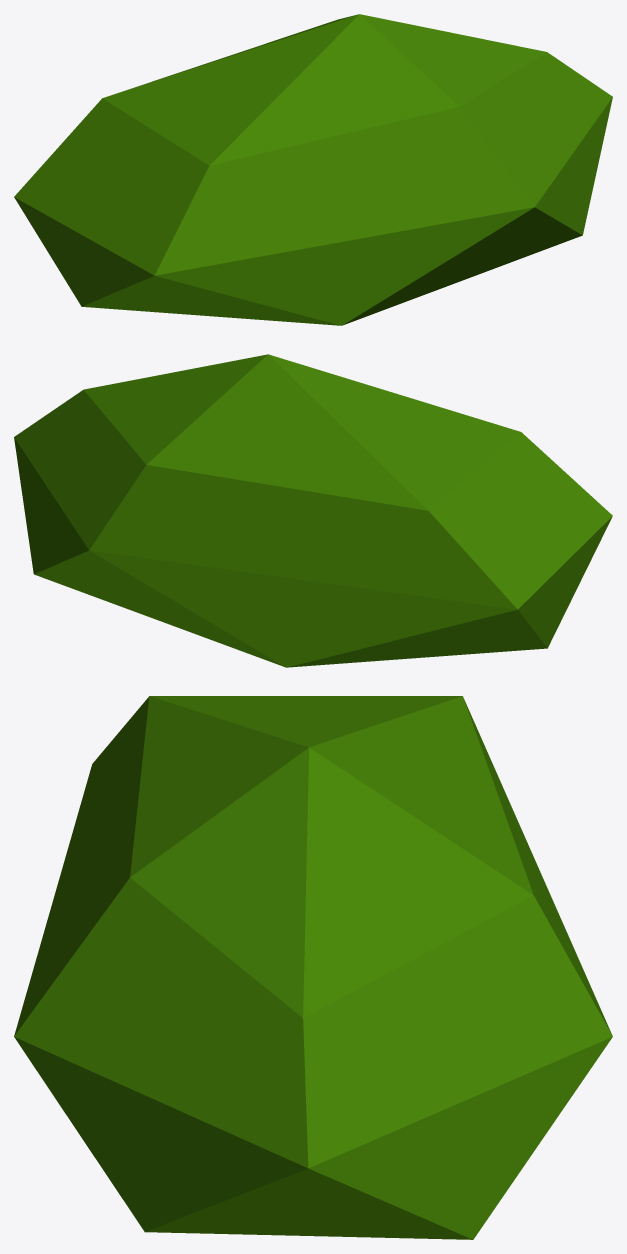
The model's file is T_Bush2.fbx.
3 renders of one model, top to bottom at view 1: azimuth 30°, elevation 25°; view 2: azimuth 150°, elevation 25°; view 3: azimuth 270°, elevation 25°, orthographic. The views are drawn at different scales.
Parts seen in each view (by area): view 1: Icosphere; view 2: Icosphere; view 3: Icosphere.
Part boxes in pixels (x1,y1,x2,y2): Icosphere: (14, 14, 612, 325); Icosphere: (14, 354, 612, 667); Icosphere: (14, 696, 612, 1239).
Bounding box in the file's own units: 1.85 × 0.7236 × 1.11.
